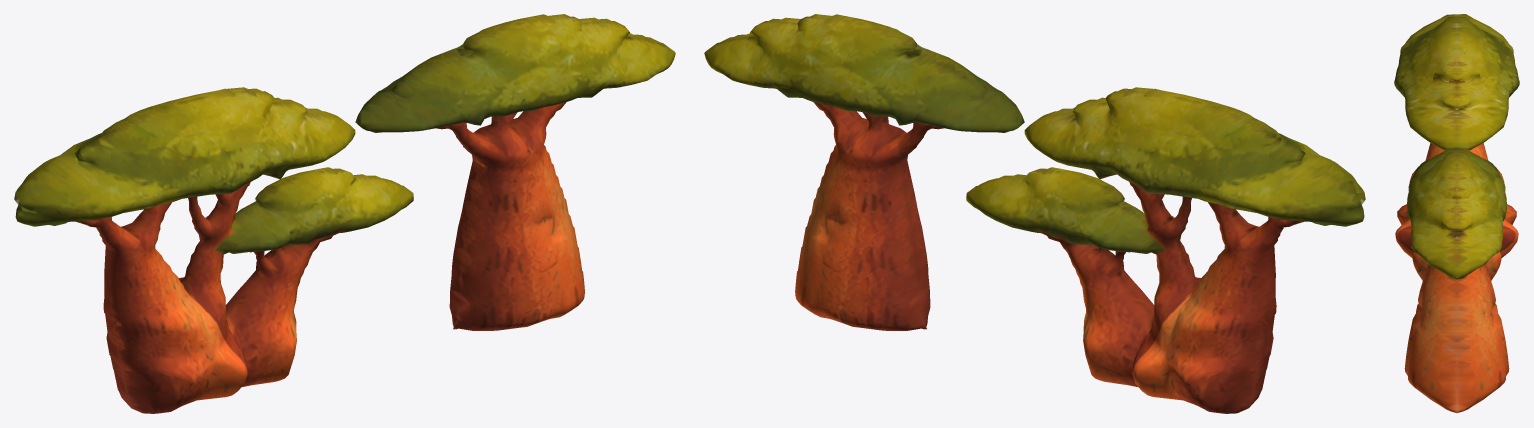
Rendered from 03_baobab_trees_r01_c02.glb.
3 views of the same model, side by side, from view 1: azimuth 30°, elevation 25°; view 2: azimuth 150°, elevation 25°; view 3: azimuth 270°, elevation 25° (orthographic). The views are drawn at different scales.
Visible parts, largest first — view 1: 03_baobab_trees_r01_c02; view 2: 03_baobab_trees_r01_c02; view 3: 03_baobab_trees_r01_c02.
Boxes of the visible parts, x1,y1,x2,y2 form: 03_baobab_trees_r01_c02: (14, 14, 675, 413); 03_baobab_trees_r01_c02: (704, 14, 1365, 413); 03_baobab_trees_r01_c02: (1394, 14, 1519, 412).
Size of the model in its own units: 6.68 by 2.85 by 1.41.
1 material, 1 textured.
